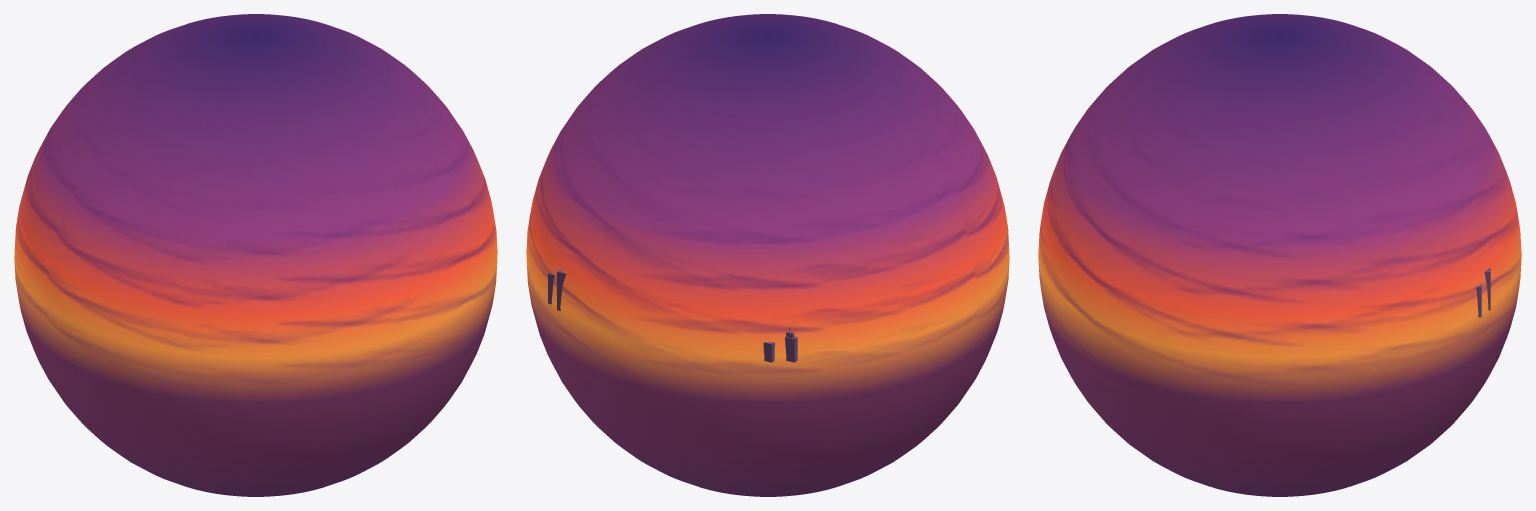
Rendered from vantheah.glb.
The picture shows the model from 3 angles, left to right: view 1: azimuth 30°, elevation 25°; view 2: azimuth 150°, elevation 25°; view 3: azimuth 270°, elevation 25°; orthographic projection.
Parts seen in each view (by area): view 1: ENV_Sunset_Dome; view 2: ENV_Sunset_Dome, Skyline_Buildings; view 3: ENV_Sunset_Dome.
Boxes of the visible parts, x1,y1,x2,y2 form: ENV_Sunset_Dome: [14, 14, 497, 496]; ENV_Sunset_Dome: [526, 14, 1009, 496]; Skyline_Buildings: [548, 269, 797, 362]; ENV_Sunset_Dome: [1038, 14, 1521, 496].
Bounding box in the file's own units: 240 × 240 × 240.
Materials: 24 (2 with a texture image).
